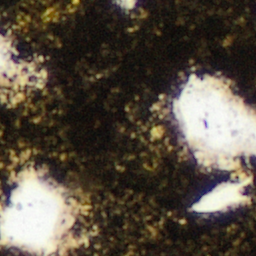cement_matrix: (0, 0, 255, 255), (0, 246, 30, 255), (152, 128, 161, 136)
gravel_crushed_stones: (170, 75, 255, 214), (0, 166, 87, 255), (0, 34, 44, 101), (117, 0, 135, 8), (153, 129, 160, 135), (4, 91, 6, 93)
